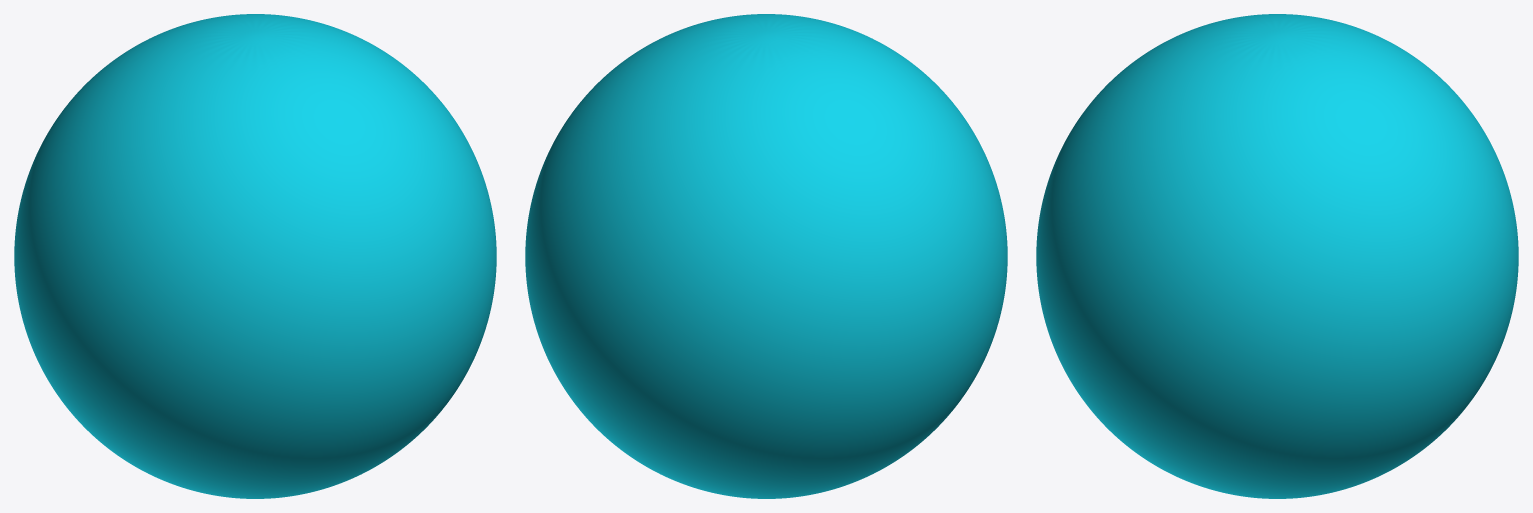
Rendered from HYDROGEN.gltf.
3 renders of one model, left to right at view 1: azimuth 30°, elevation 25°; view 2: azimuth 150°, elevation 25°; view 3: azimuth 270°, elevation 25°, orthographic.
Visible parts, largest first — view 1: Sphere; view 2: Sphere; view 3: Sphere.
Boxes of the visible parts, x1,y1,x2,y2 form: Sphere: (14, 14, 496, 498); Sphere: (525, 14, 1007, 498); Sphere: (1036, 14, 1518, 498).
Size of the model in its own units: 1.97 by 2 by 1.97.
